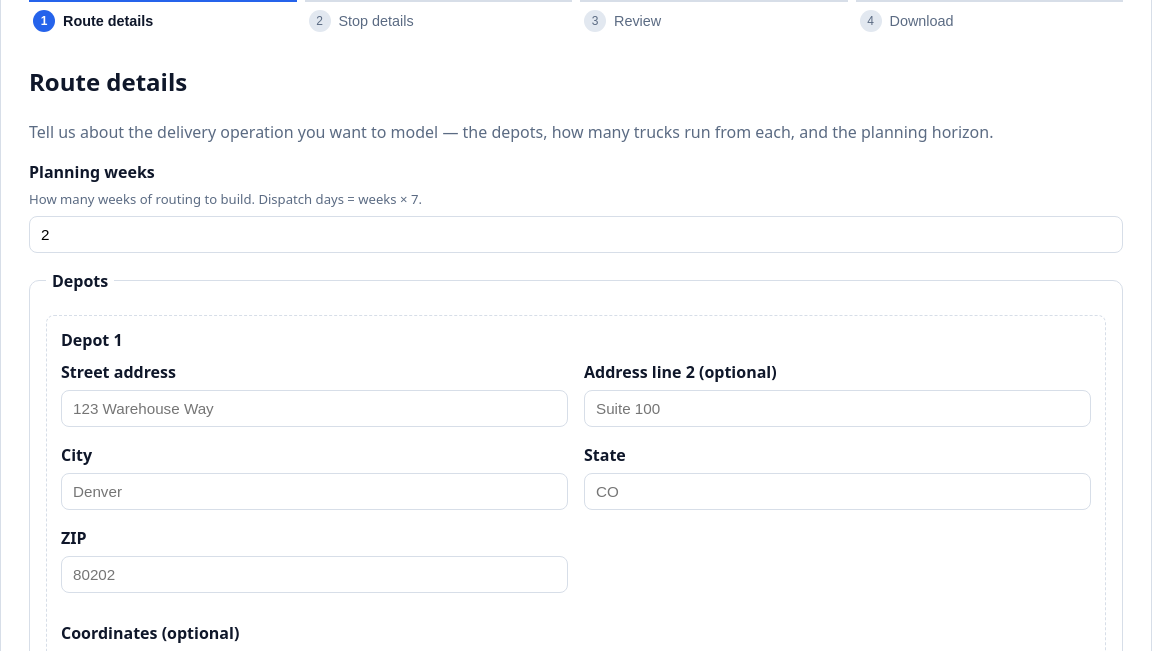
DatasetWizard › preserves answers when navigating back (state NFR)
Type "1 Warehouse Way" into the field labelled "Street address" at (314, 408), box [61,390,568,427]
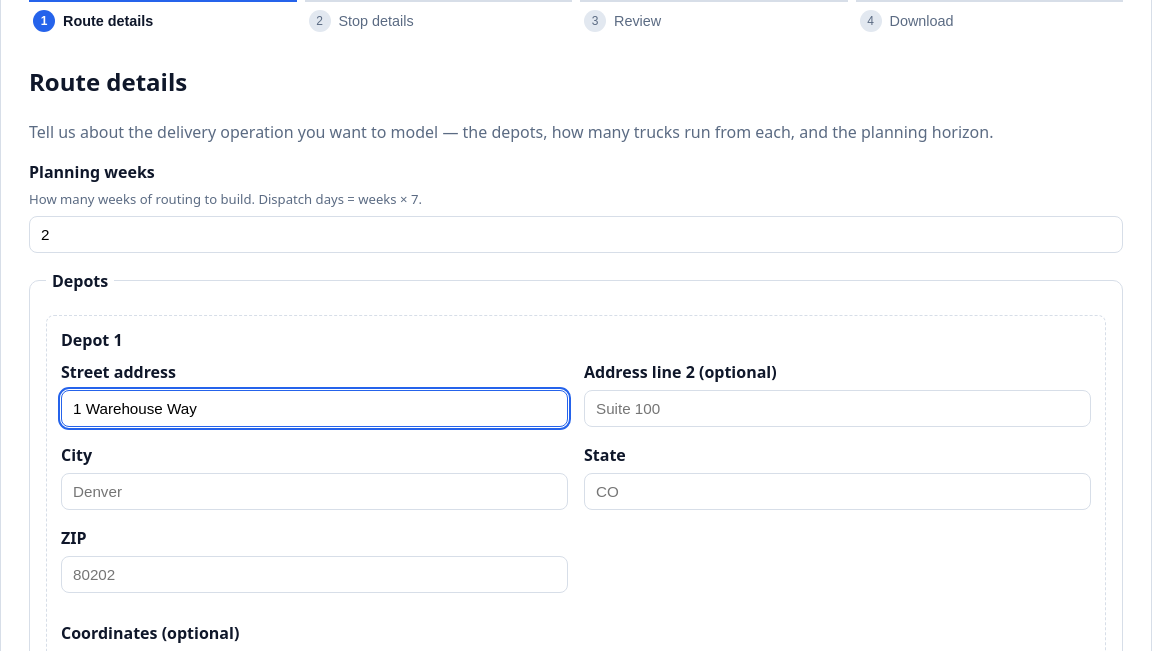
Type "Salt Lake City" into the field labelled "City" at (314, 492), box [61,473,568,510]
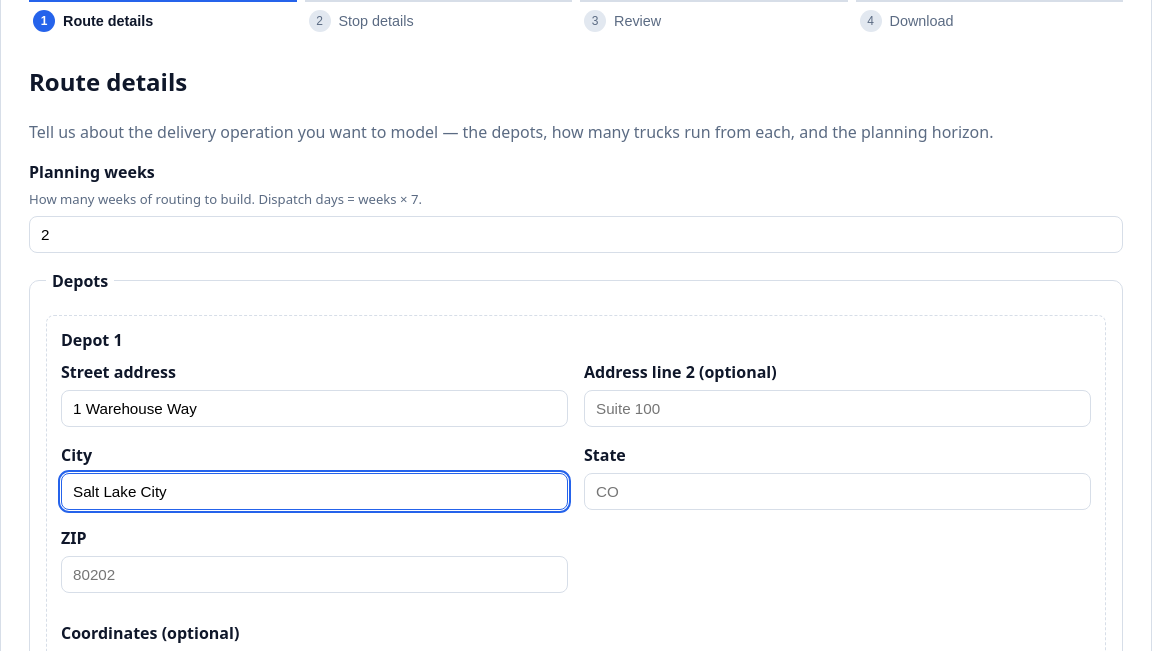
Type "UT" into the field labelled "State" at (838, 492), box [584,473,1091,510]
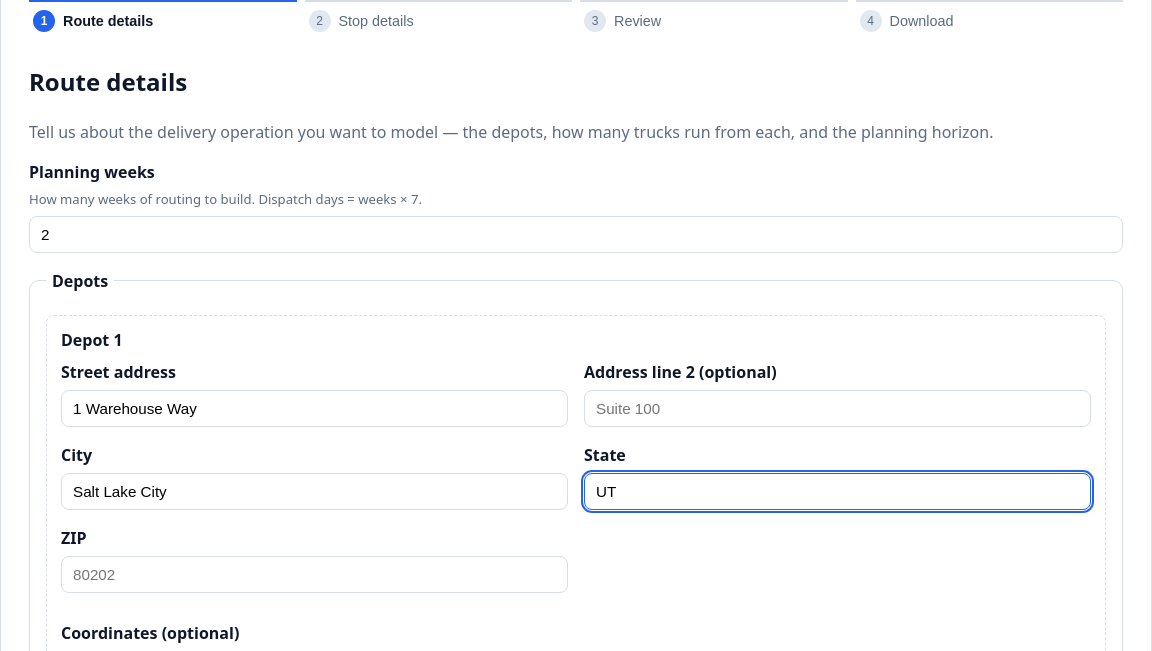
Type "84101" into the field labelled "ZIP" at (314, 574), box [61,556,568,593]
(page scrolled)
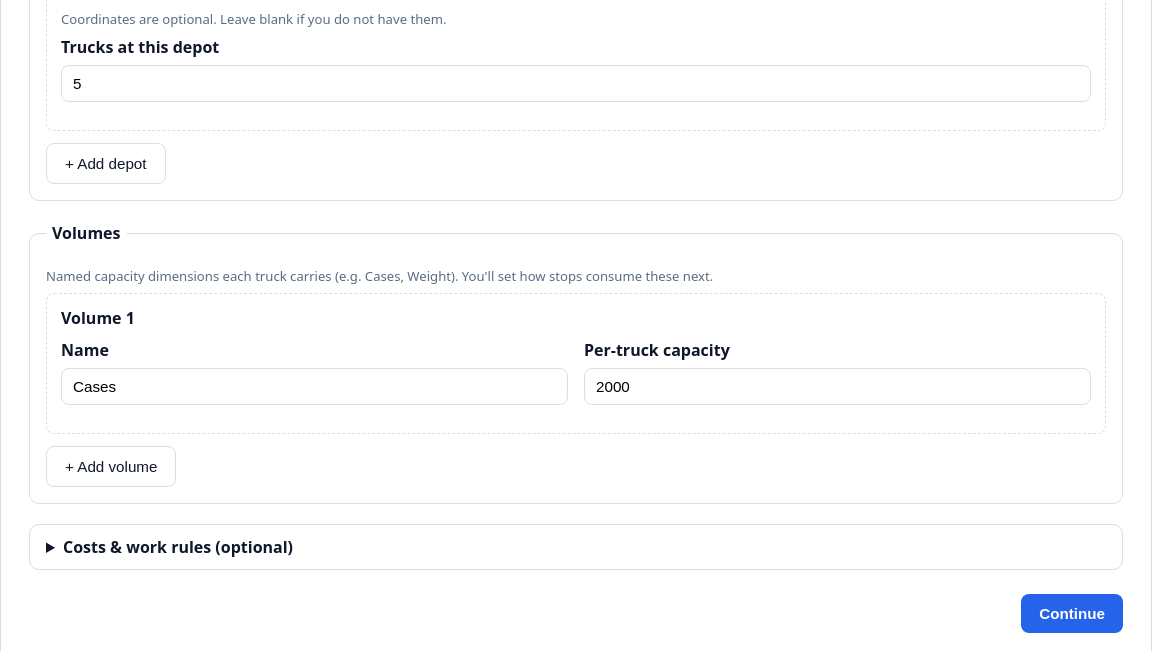
Click the button "Continue" at (1072, 614), box [1021,594,1123,633]
(page scrolled)
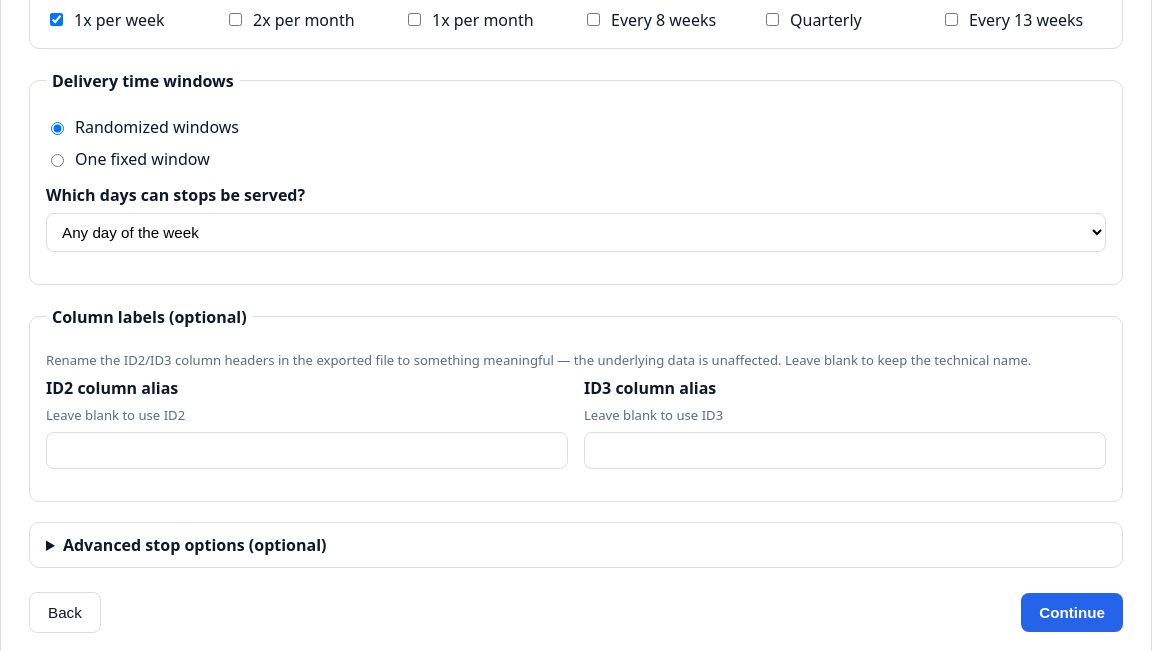
Click the button "Back" at (65, 613), box [29,592,101,633]
(page scrolled)
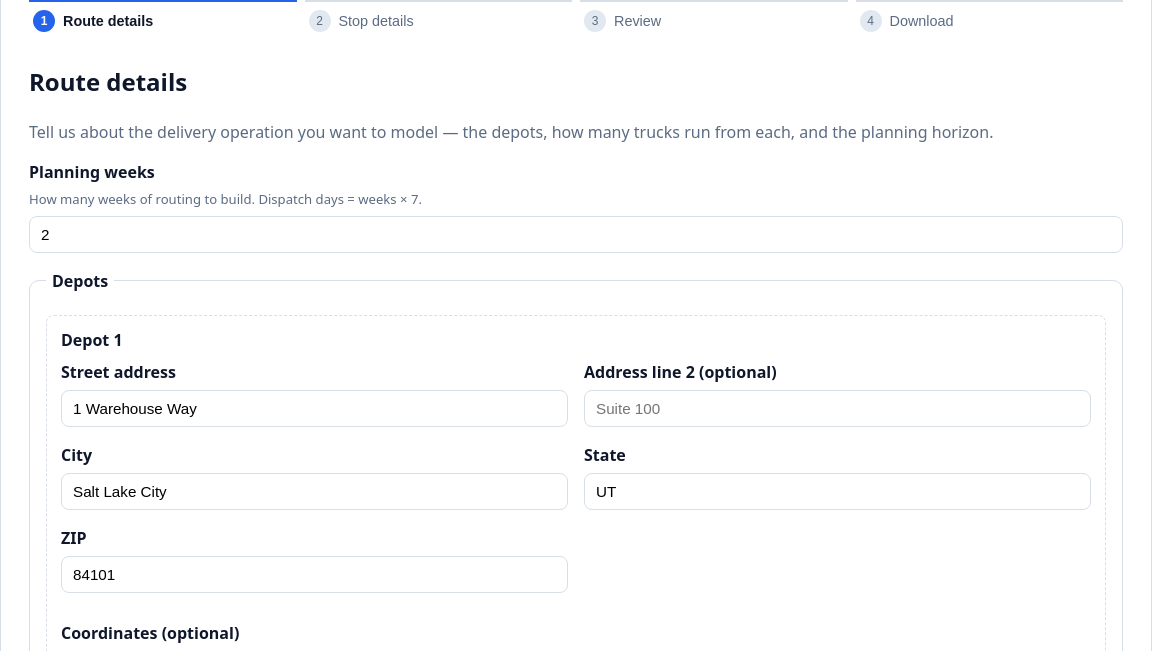
Check: the heading "Route details" is shown, box [29,65,187,98]
Check: the field labelled "Street address" holds "1 Warehouse Way", box [61,390,568,427]
